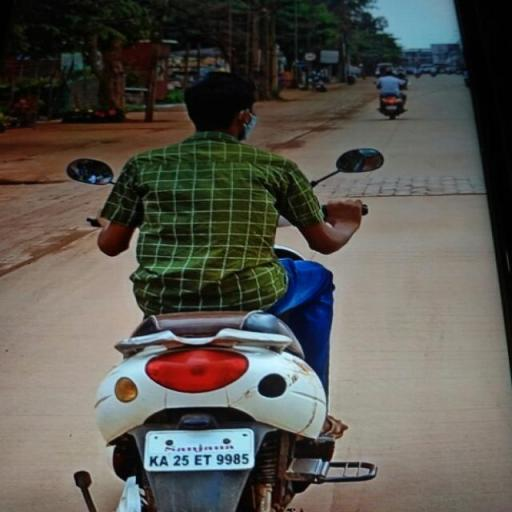bike: (53, 65, 388, 512)
numberplate: (148, 428, 257, 471)
withouthelmet: (186, 75, 256, 133)
